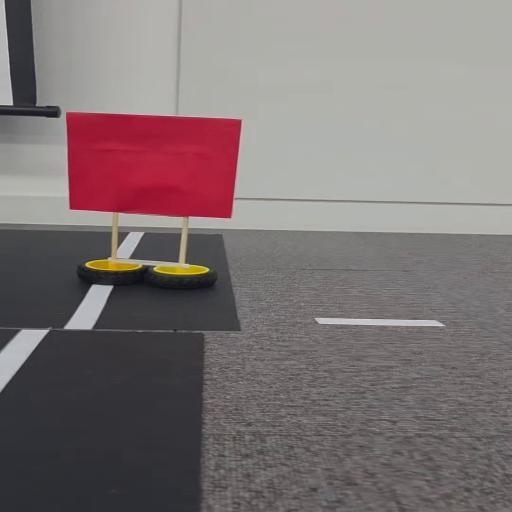Sign_A: (54, 109, 244, 293)
